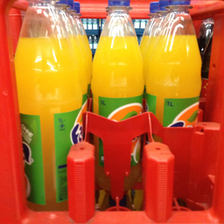soda: (15, 2, 82, 209), (92, 1, 145, 194), (146, 1, 201, 128)
